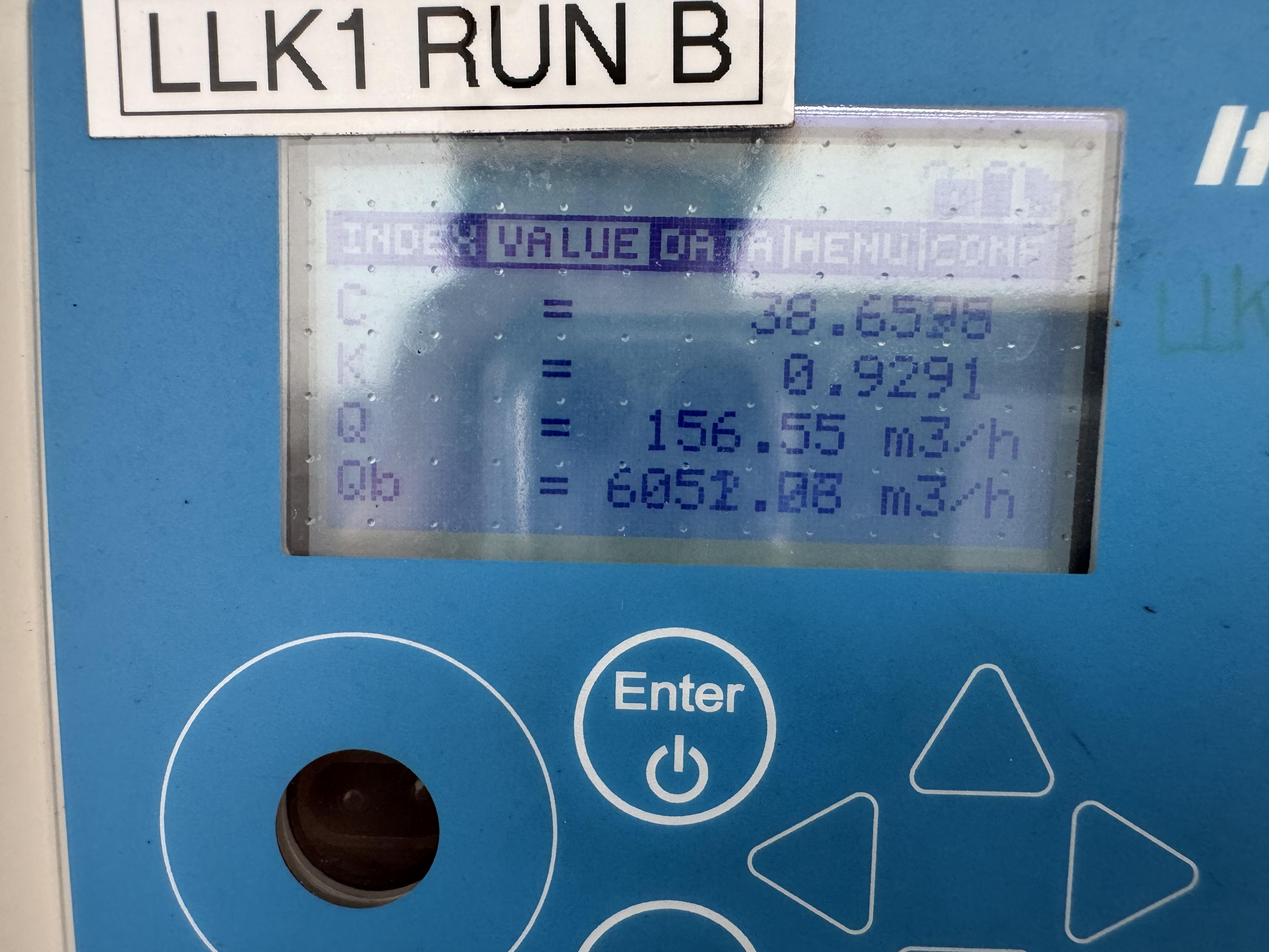digital_screen: (265, 90, 1129, 575)
